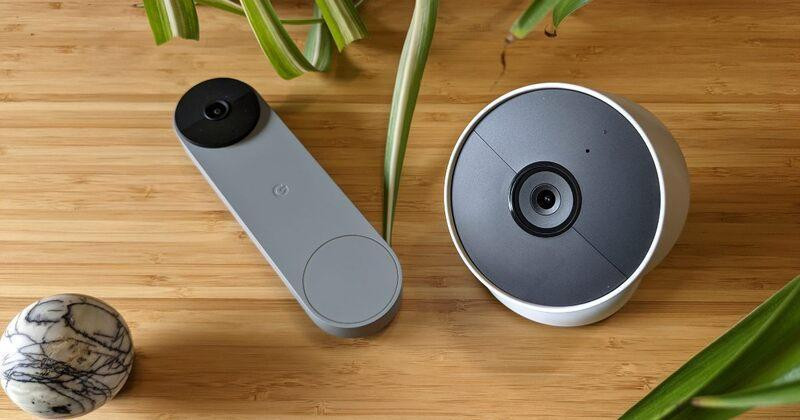doorbell: (138, 108, 264, 420)
nest: (445, 88, 700, 317)
